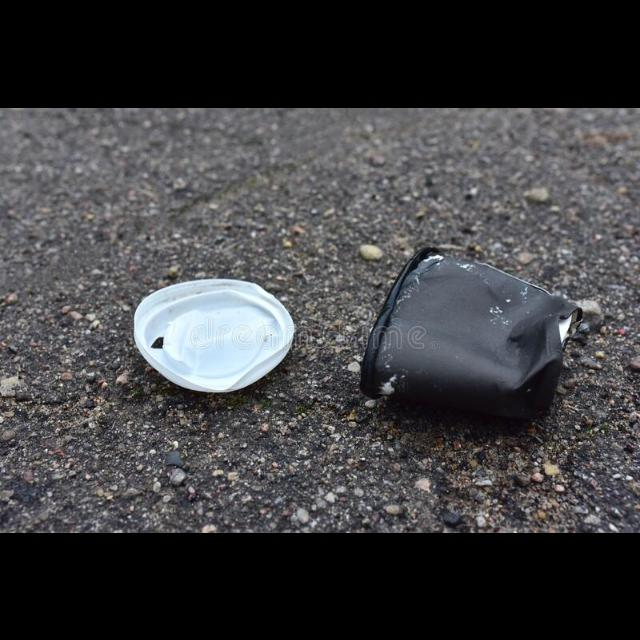trash: (358, 240, 582, 418)
